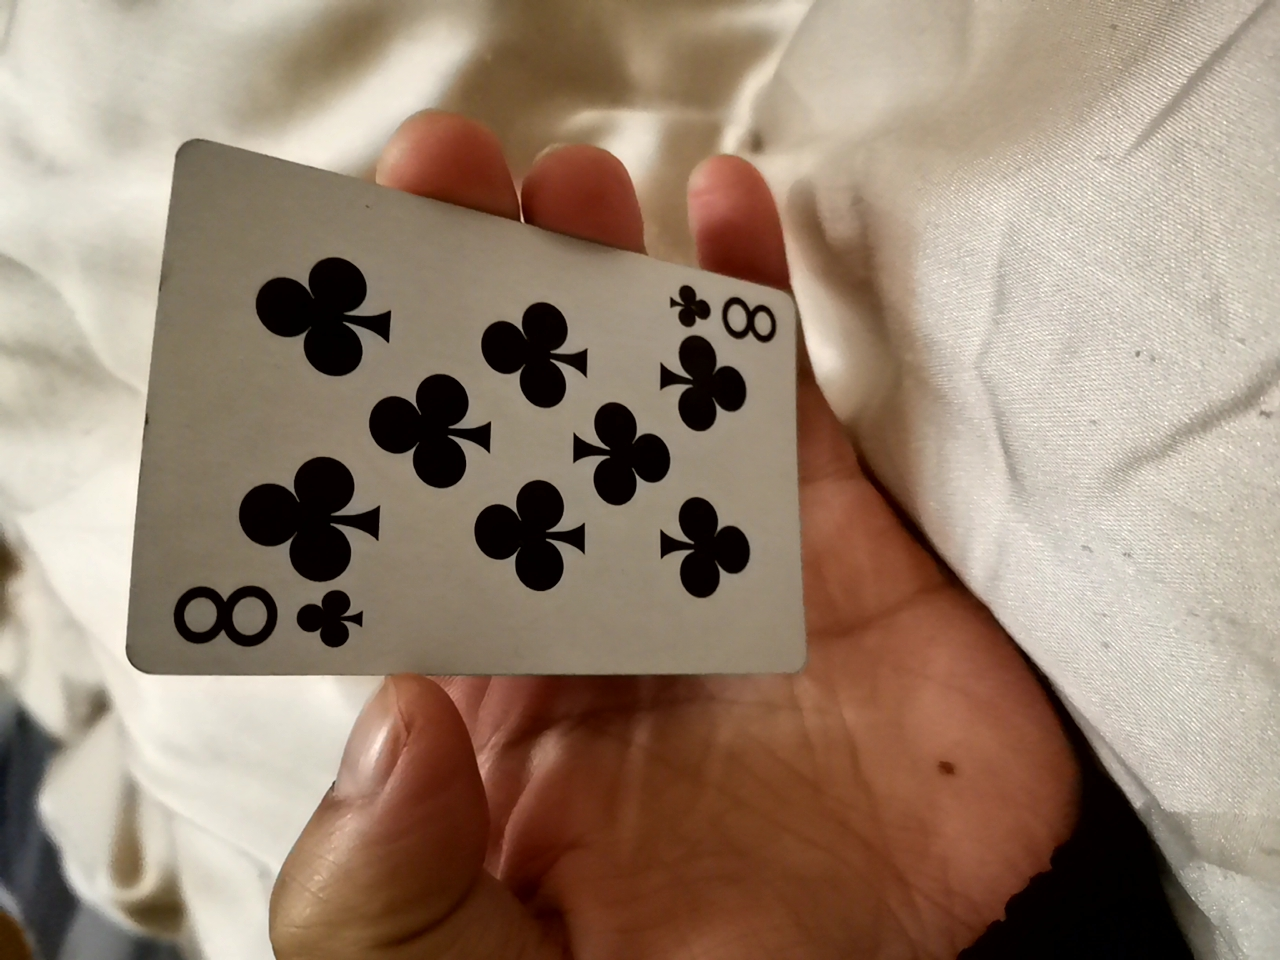mh 8: (135, 173, 836, 716)
